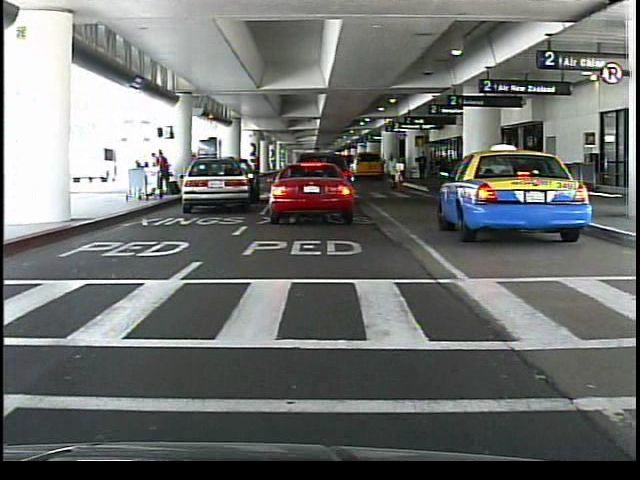person: (247, 152, 265, 201), (158, 147, 173, 197), (310, 153, 325, 202), (386, 152, 401, 190), (294, 163, 307, 203), (415, 150, 429, 184)
